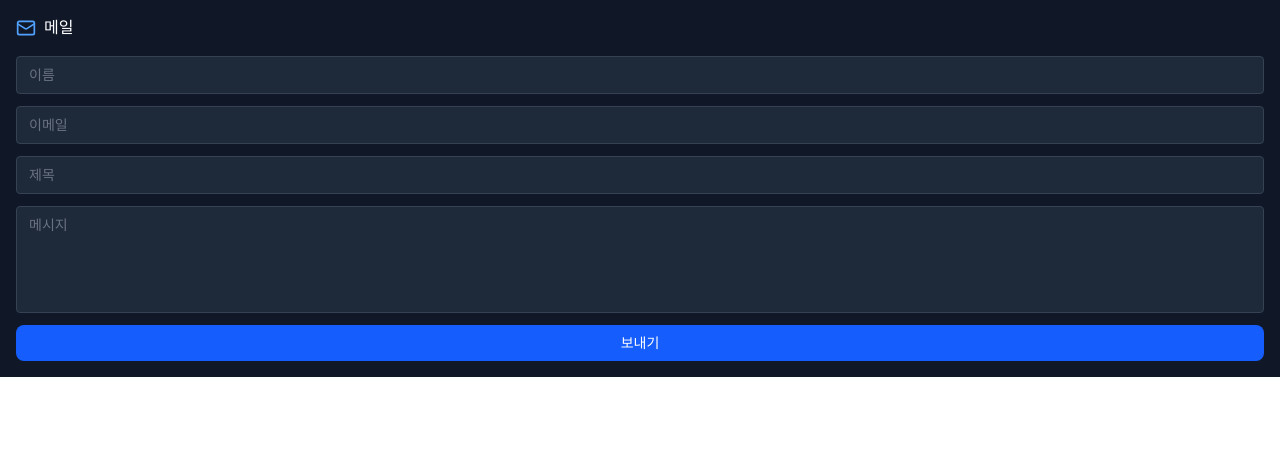
it: MailingApp › clears field error on change
Click the button with test id "mail-submit": point(640, 343) [16, 325, 1264, 361]
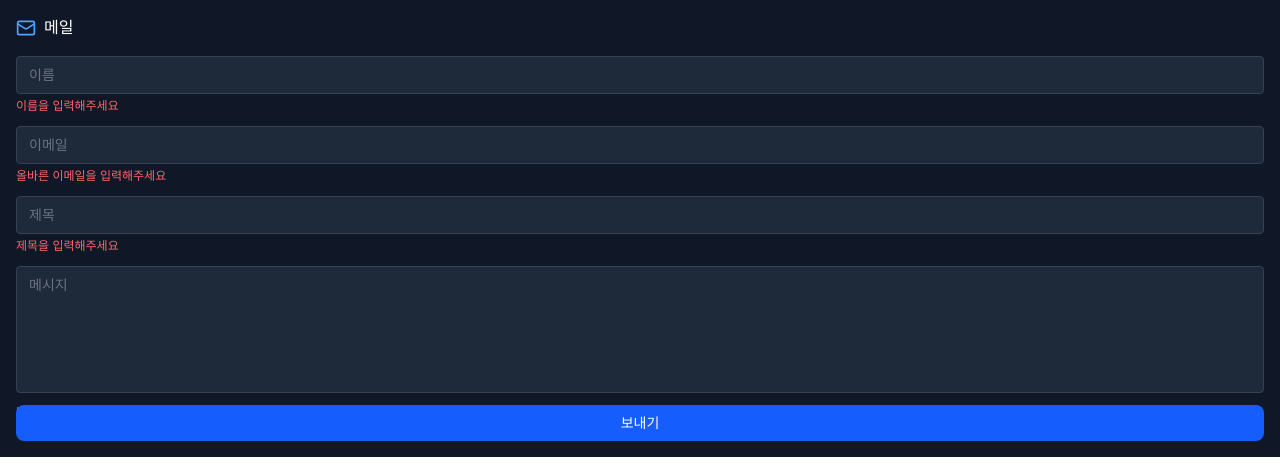
Check: the text "이름을 입력해주세요" is shown, box [16, 99, 119, 113]
In the field with test id "mail-name": point(640, 75) [16, 56, 1264, 94], type "Hana"
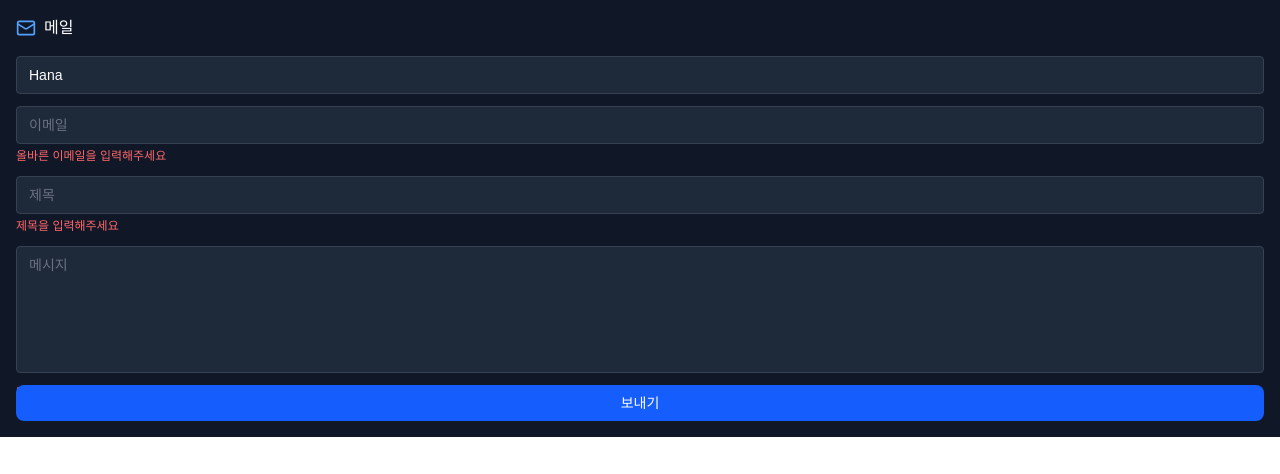
Check: the text with test id "mail-name-error" is gone
